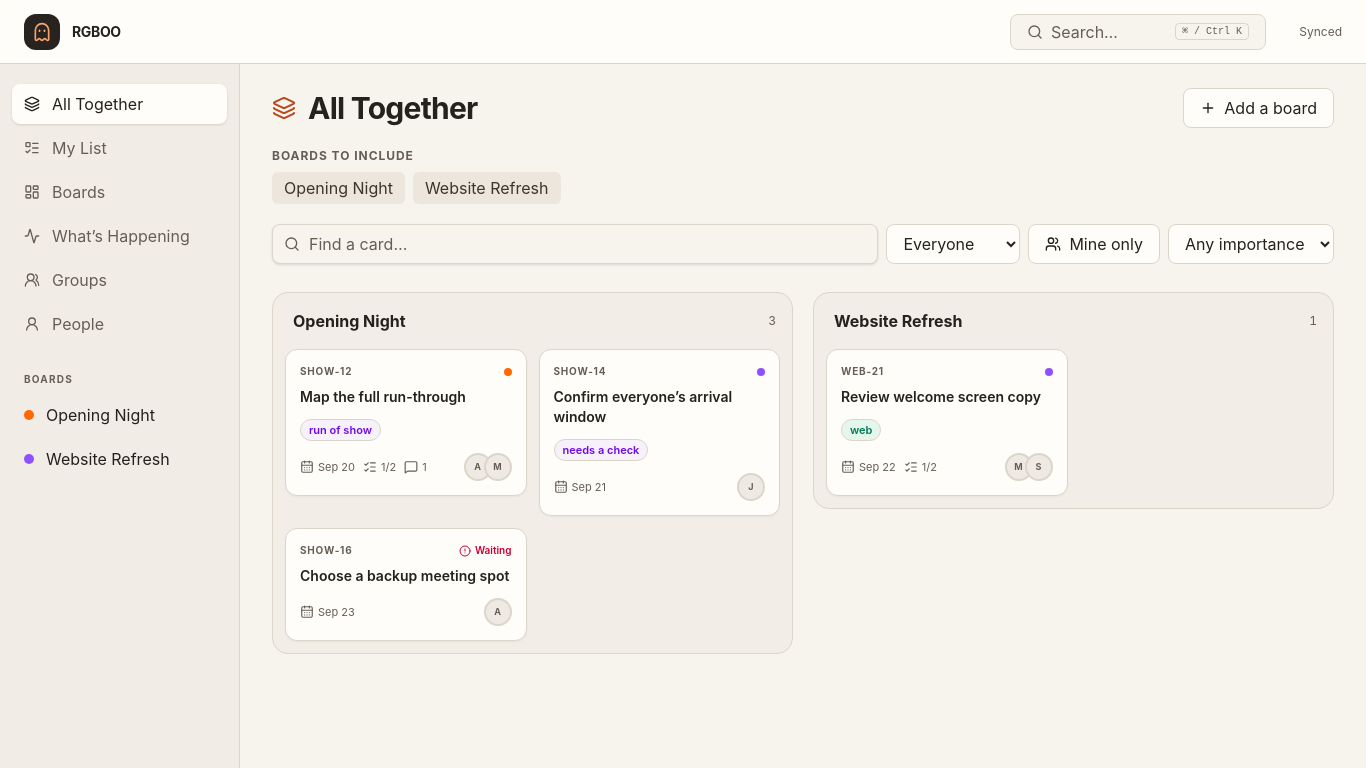
The Board › opens a card and exposes the Discord-equivalent actions
This screenshot has width=1366, height=768.
Expected: the heading "Opening Night" is shown, [289,305,410,337]
Click the button with aria-label "open show-12" at (406, 422), box [285,349,526,496]
(page scrolled)
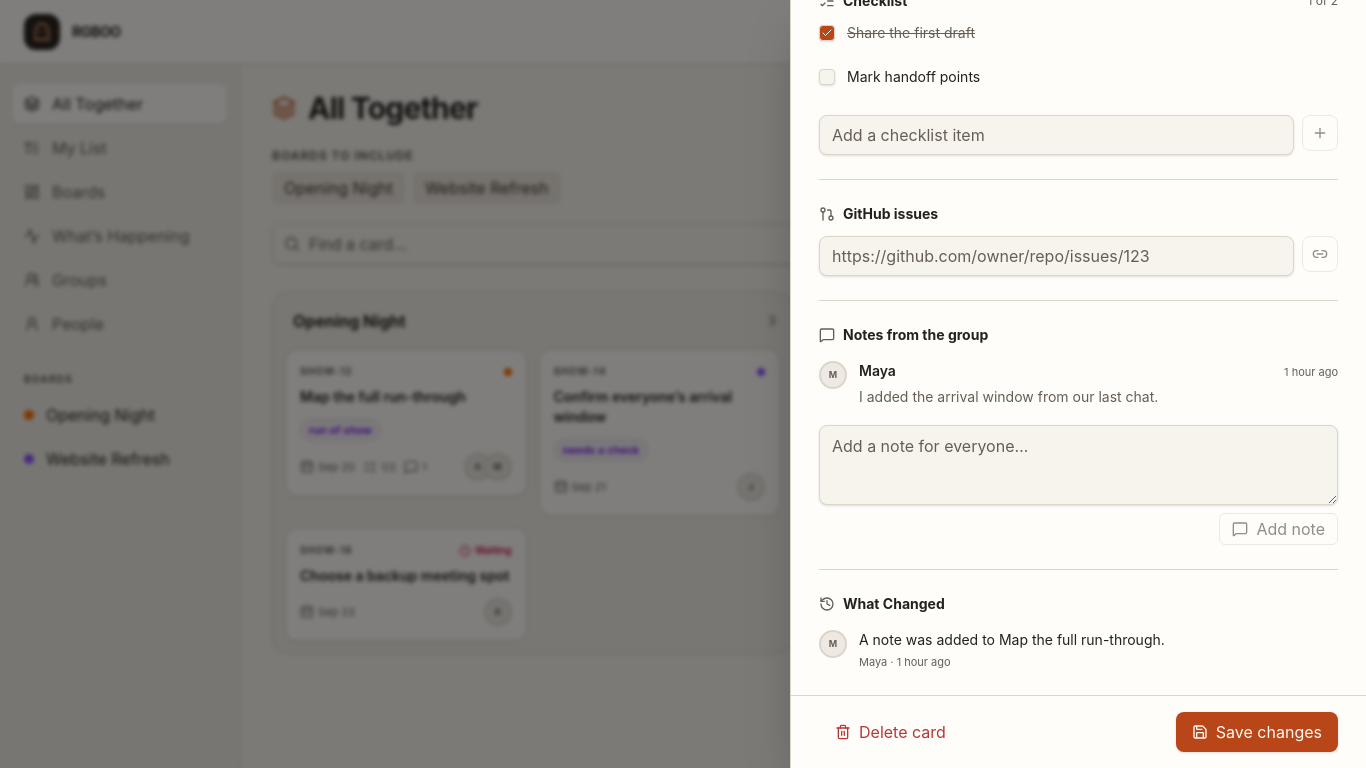
Expected: the field named "GitHub issue URL" is shown, [819,236,1294,276]
Expected: the text box with placeholder "Add a note for everyone…" is shown, [819,425,1338,505]
